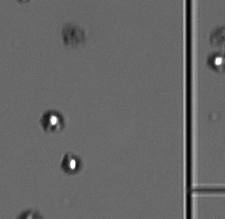Dead Cell: (64, 24, 87, 42)
Living Cell: (40, 109, 64, 133), (62, 153, 81, 175), (208, 51, 223, 70)
